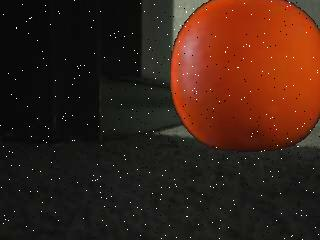Orange: (172, 1, 320, 154)
